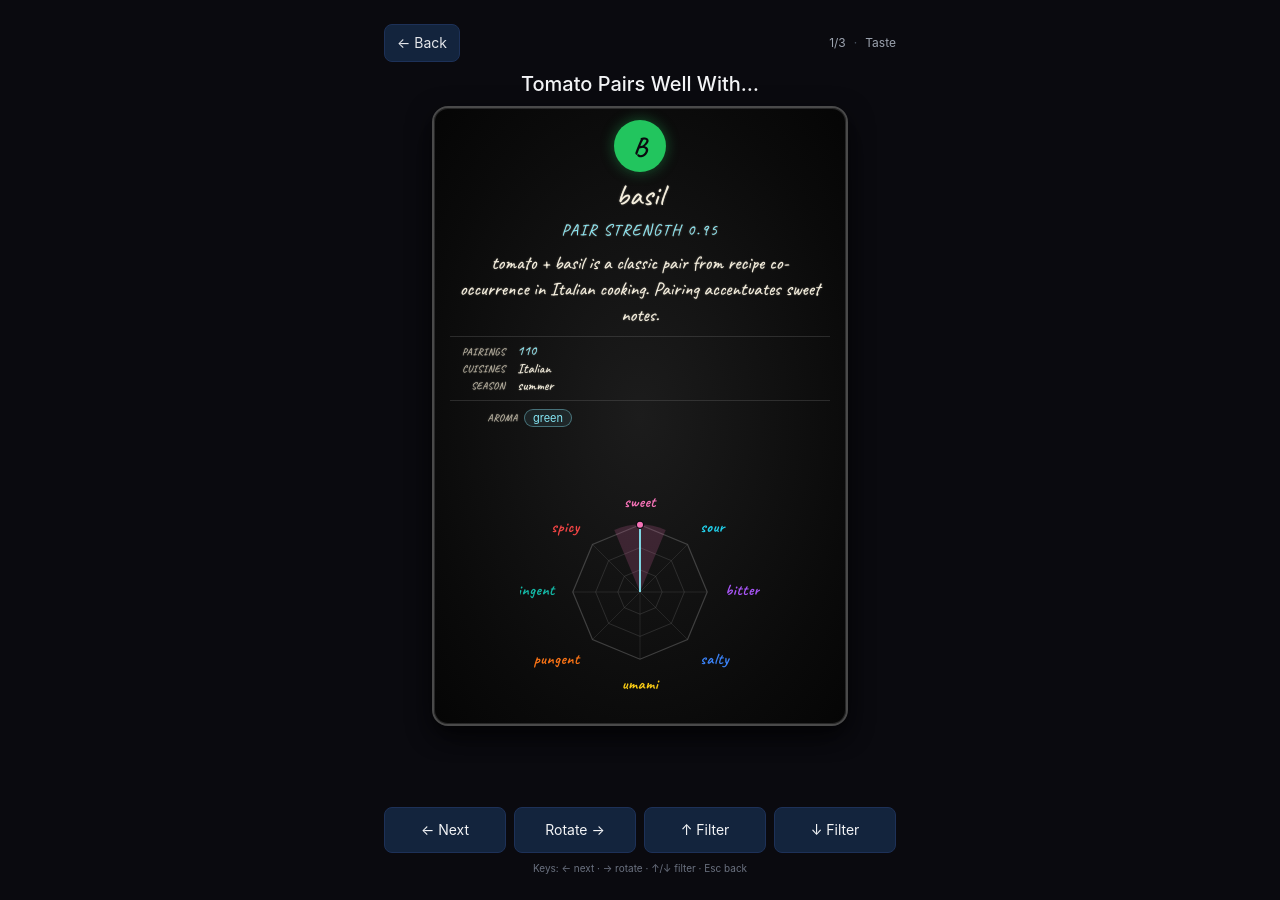
Test: PairingMode container › progress counter advances on left button
Check: the text with test id "pairing-mode-progress" reads "1/3", box [829,35,846,50]
Click the button with test id "pairing-mode-left" at (445, 830), box [384,807,506,853]
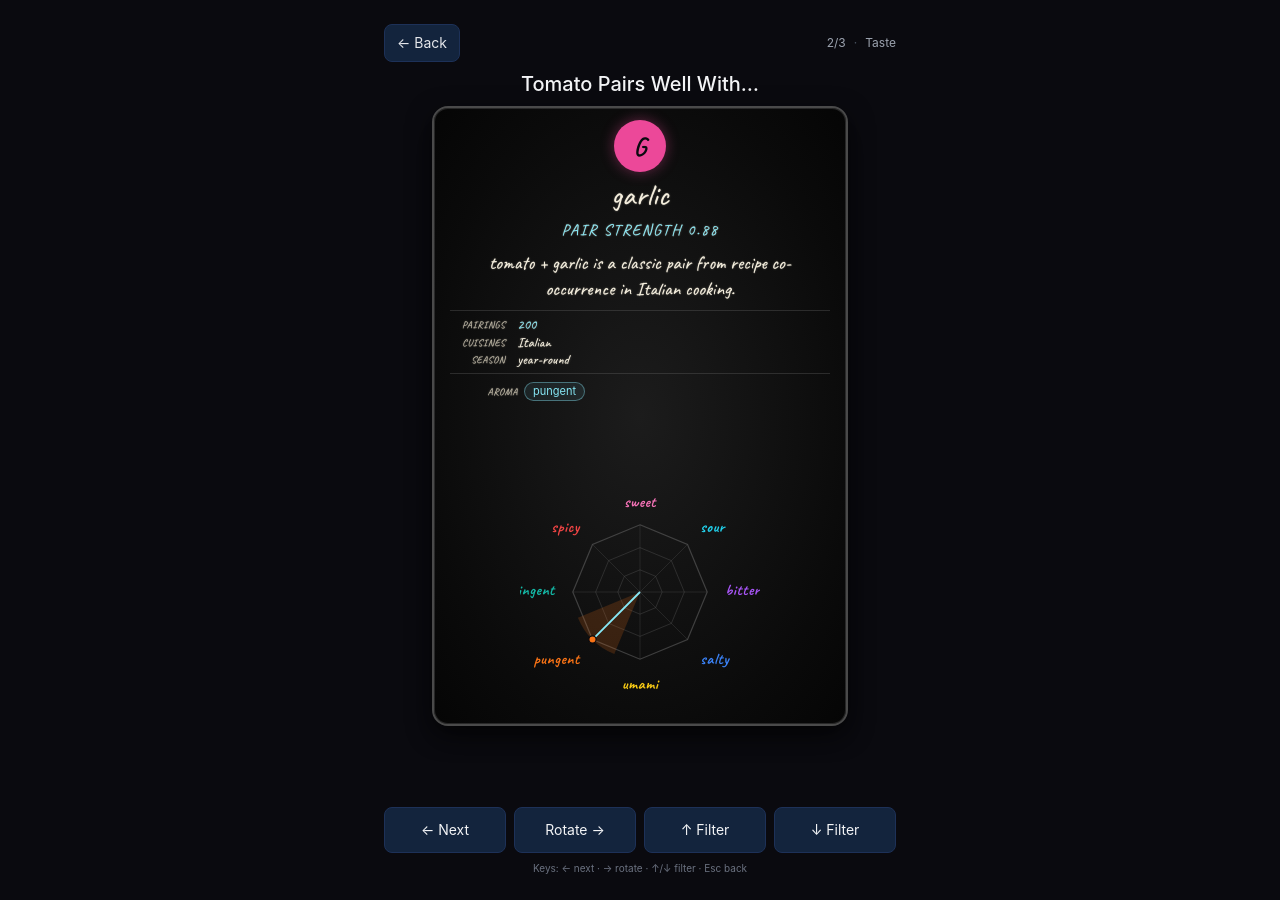
Check: the text with test id "pairing-mode-progress" reads "2/3", box [827,35,846,50]
